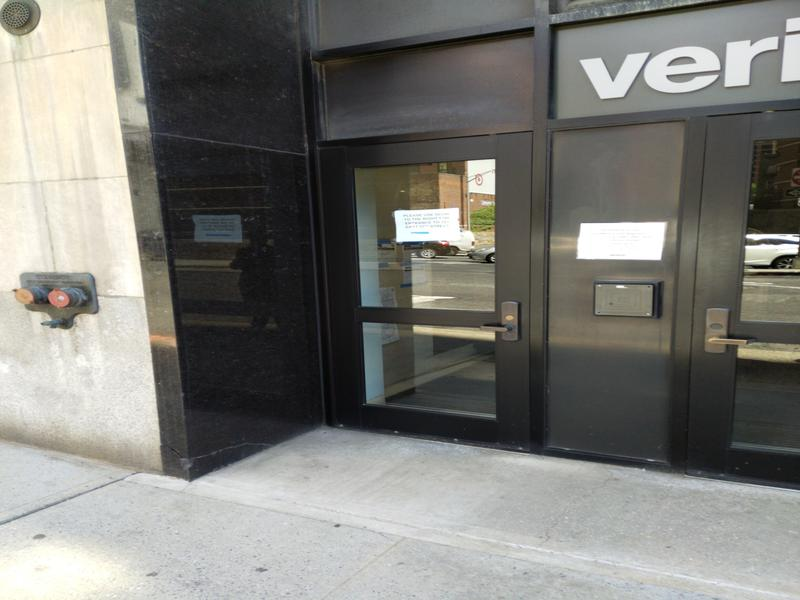door: (319, 129, 535, 451), (680, 103, 800, 480)
